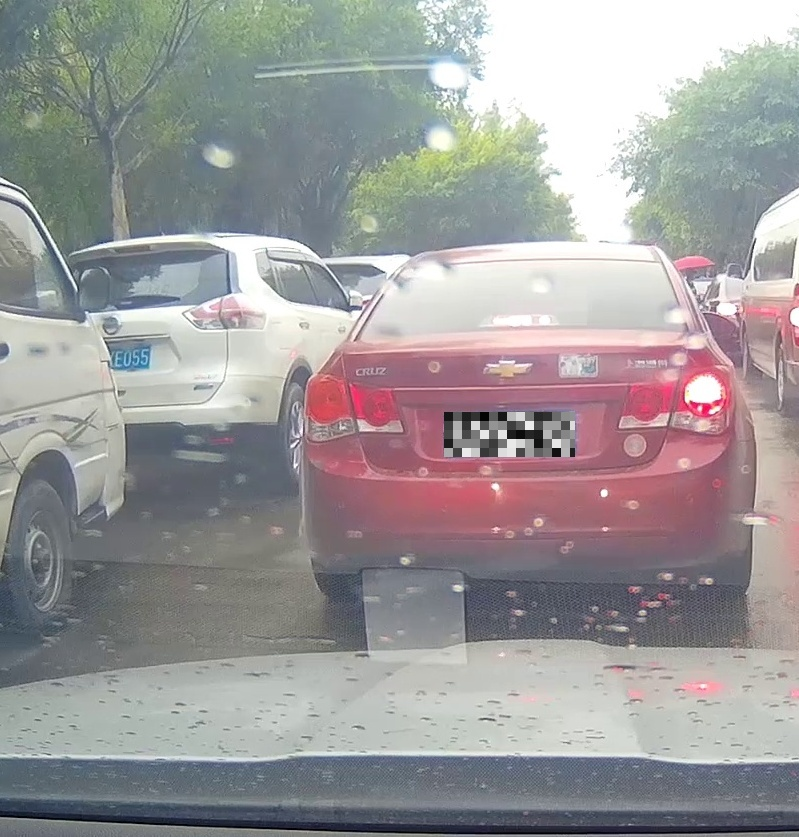L_light: (303, 372, 405, 444)
R_light: (617, 365, 735, 435)
T_light: (478, 314, 563, 328)
day-right: (301, 240, 757, 602)
plate_1: (444, 412, 575, 457)
